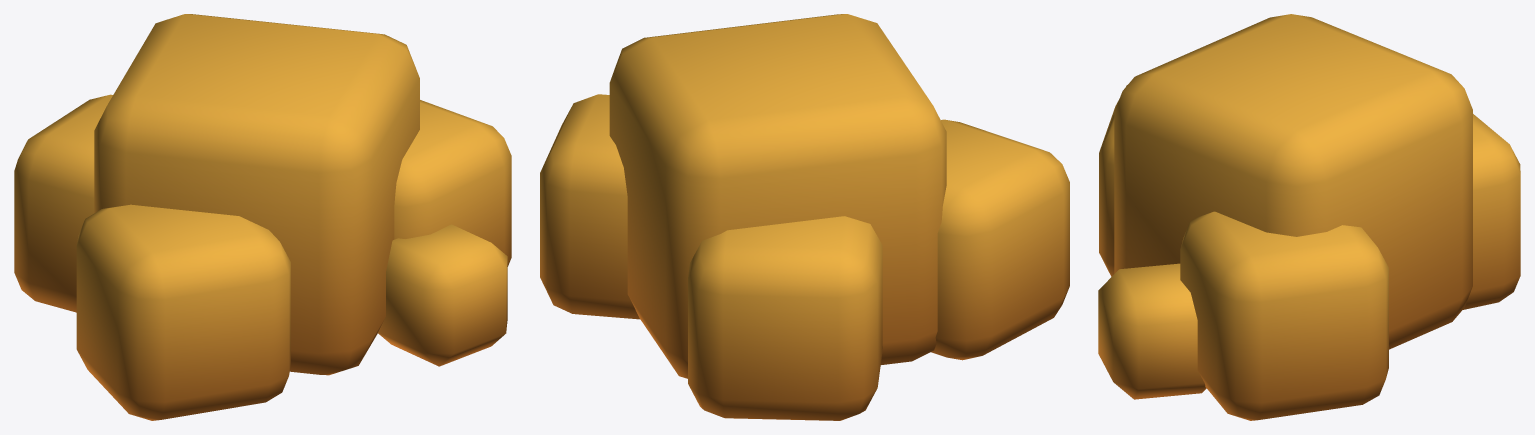
Rendered from Bush_2_E_Color5.fbx.
3 views of the same model, side by side, from view 1: azimuth 30°, elevation 25°; view 2: azimuth 150°, elevation 25°; view 3: azimuth 270°, elevation 25° (orthographic). The views are drawn at different scales.
Parts seen in each view (by area): view 1: Bush_2_E_Color5; view 2: Bush_2_E_Color5; view 3: Bush_2_E_Color5.
Part boxes in pixels (x1,y1,x2,y2): Bush_2_E_Color5: (14,14,511,420); Bush_2_E_Color5: (540,14,1069,420); Bush_2_E_Color5: (1098,14,1520,420).
Bounding box in the file's own units: 2.35 × 1.33 × 2.01.
